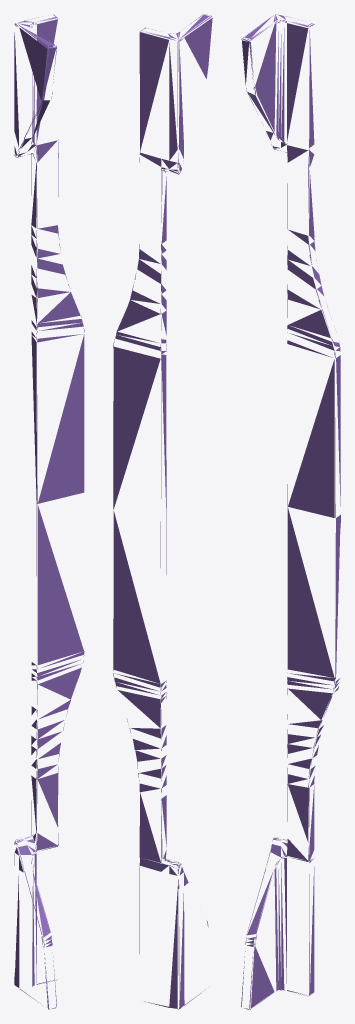
Rendered from bodyPart_side_skirt_right_c01.glb.
The picture shows the model from 3 angles, left to right: view 1: azimuth 30°, elevation 25°; view 2: azimuth 150°, elevation 25°; view 3: azimuth 330°, elevation 25°; orthographic projection.
Parts seen in each view (by area): view 1: geometry_0; view 2: geometry_0; view 3: geometry_0.
Boxes of the visible parts, x1,y1,x2,y2 form: geometry_0: (14,14,84,1009); geometry_0: (113,14,212,1009); geometry_0: (241,14,340,1009).
Size of the model in its own units: 0.0342 by 0.48 by 0.0309.
